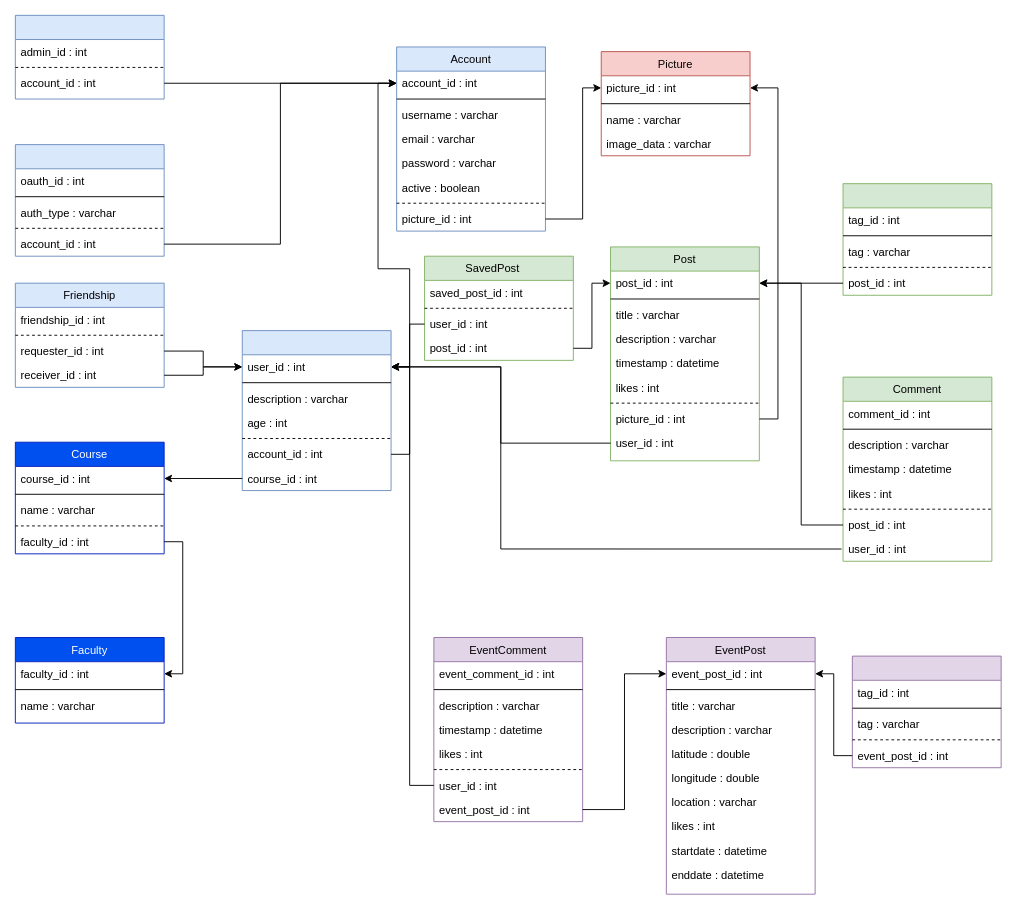
Some shapes in this 1016 by 910 pixel diagram are drawn without their labels. Each missing label, with the box of its shape:
Administrator: (14, 14, 164, 99)
ClientUser: (241, 330, 391, 491)
EventTag: (851, 655, 1001, 768)
OAuthAccount: (14, 144, 164, 256)
PostTag: (842, 183, 992, 295)
